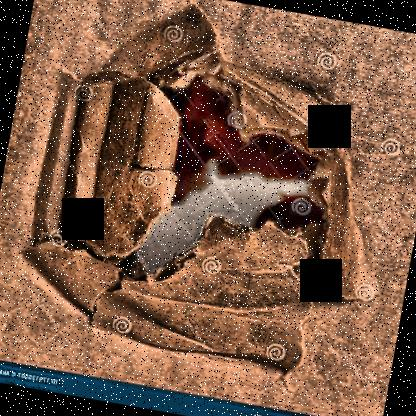defect parcel: (0, 0, 416, 411)
